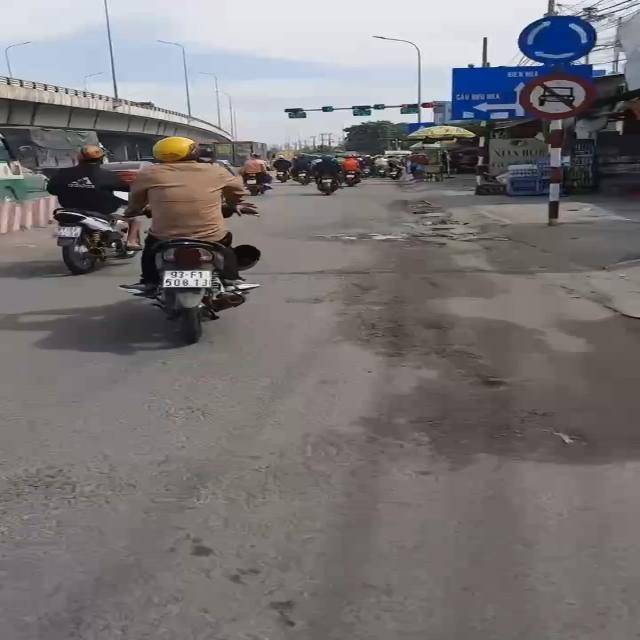103a-cam-oto: (520, 72, 596, 120)
303-noi-giao-nhau-chay-theo-vong-xuyen: (517, 13, 601, 62)
